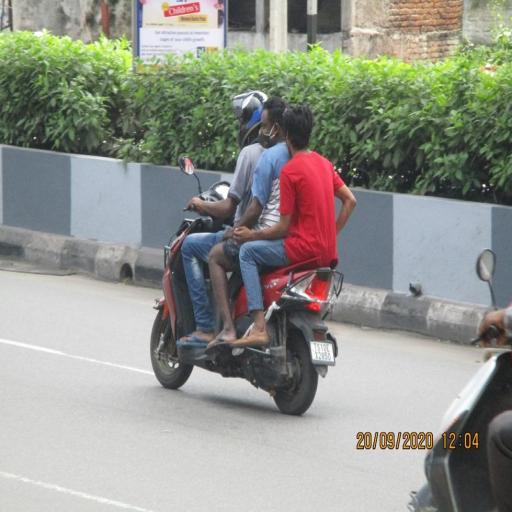motorbike: (151, 217, 342, 414), (408, 324, 511, 511), (409, 347, 511, 511), (476, 249, 495, 309)
person: (230, 106, 356, 347), (231, 106, 356, 347), (230, 106, 355, 347), (231, 106, 356, 346), (189, 91, 266, 221), (235, 98, 290, 230), (487, 411, 511, 511), (233, 94, 254, 152)
